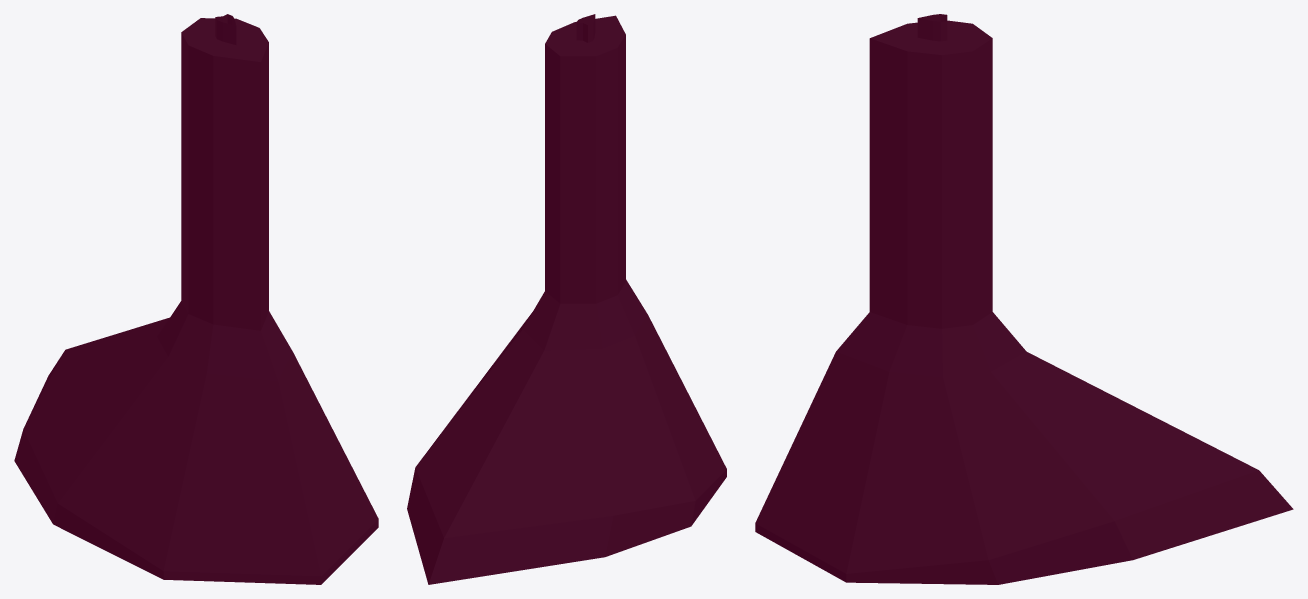
Rendered from ShadowBody.glb.
3 views of the same model, side by side, from view 1: azimuth 30°, elevation 25°; view 2: azimuth 150°, elevation 25°; view 3: azimuth 270°, elevation 25° (orthographic). The views are drawn at different scales.
Parts seen in each view (by area): view 1: ShadowBody; view 2: ShadowBody; view 3: ShadowBody.
Part boxes in pixels (left/top/right/bottom): ShadowBody: left=14, top=14, right=378, bottom=584; ShadowBody: left=407, top=14, right=726, bottom=584; ShadowBody: left=755, top=14, right=1293, bottom=584.
Bounding box in the file's own units: 1.5 × 2.62 × 2.5.
